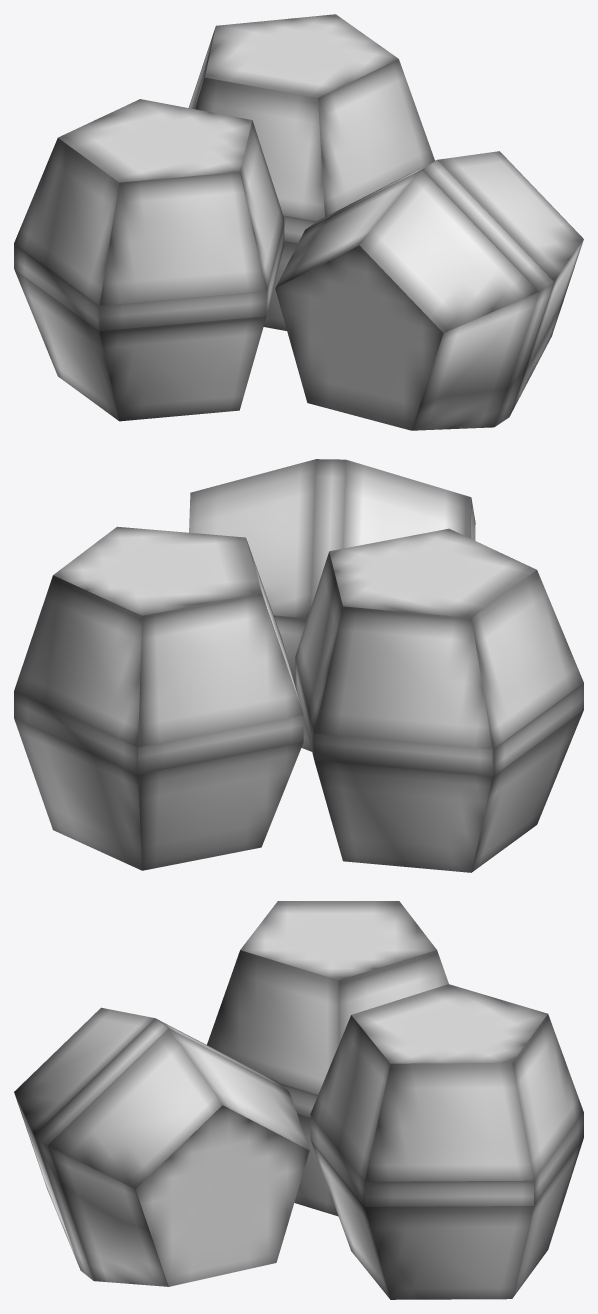
Rendered from Barrels-01.fbx.
3 views of the same model, one above another, from view 1: azimuth 30°, elevation 25°; view 2: azimuth 150°, elevation 25°; view 3: azimuth 270°, elevation 25° (orthographic). The views are drawn at different scales.
Visible parts, largest first — view 1: Barrels-01; view 2: Barrels-01; view 3: Barrels-01.
Part boxes in pixels (left/top/right/bottom): Barrels-01: left=14, top=14, right=583, bottom=430; Barrels-01: left=14, top=459, right=583, bottom=872; Barrels-01: left=14, top=901, right=583, bottom=1299.
Size of the model in its own units: 0.3915 by 0.2106 by 0.4598.
